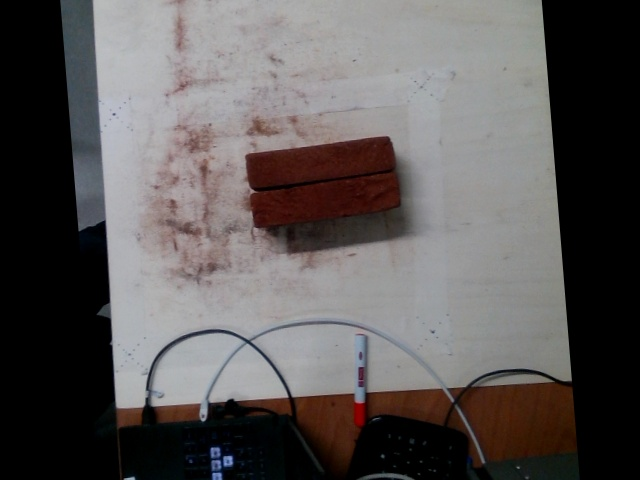brick-side: (246, 134, 393, 190), (252, 172, 398, 227)
